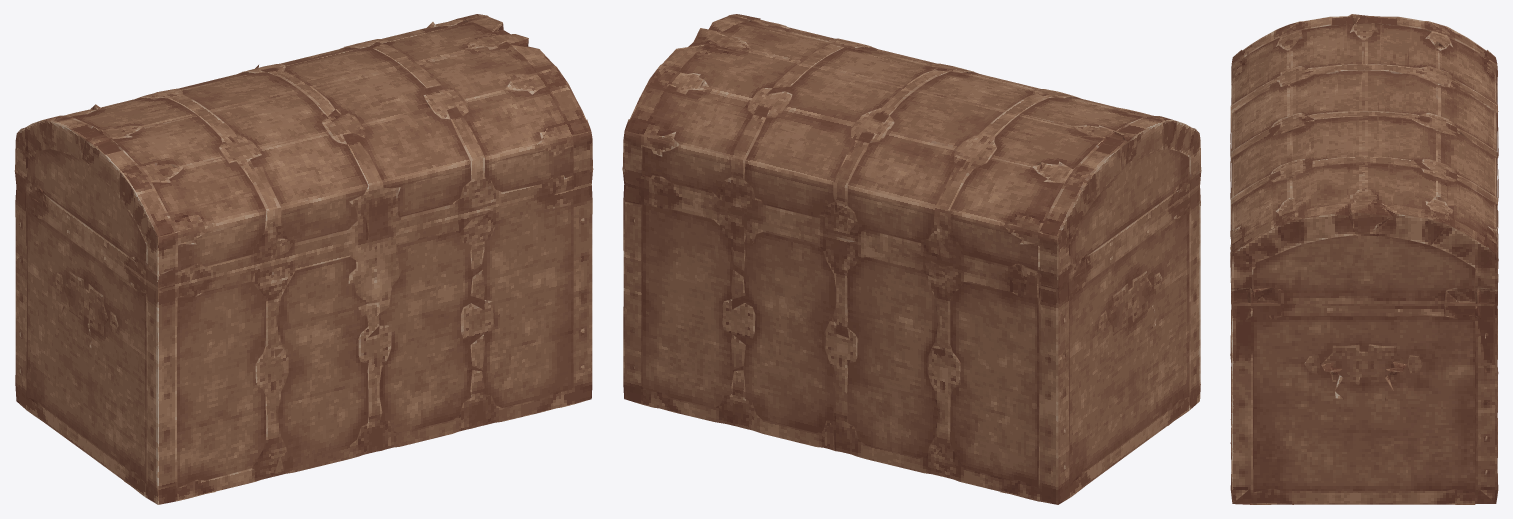
File: treasure_chest.glb
3 renders of one model, left to right at view 1: azimuth 30°, elevation 25°; view 2: azimuth 150°, elevation 25°; view 3: azimuth 270°, elevation 25°, orthographic. The views are drawn at different scales.
Visible parts, largest first — view 1: mesh; view 2: mesh; view 3: mesh.
Boxes of the visible parts, left/top/right/bottom form: mesh: left=14, top=14, right=593, bottom=504; mesh: left=622, top=14, right=1201, bottom=504; mesh: left=1230, top=14, right=1498, bottom=504.
Bounding box in the file's own units: 56.86 × 37.14 × 30.74.
Materials: 1 (1 with a texture image).
